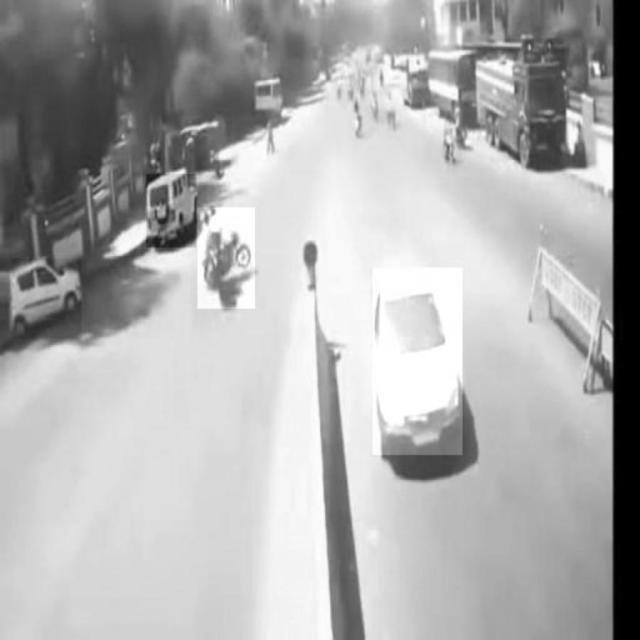accident: (198, 208, 255, 309)
vehicle: (373, 267, 463, 455), (11, 259, 81, 339), (147, 174, 197, 247)
